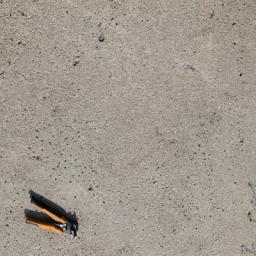FOD: (21, 188, 82, 241)
